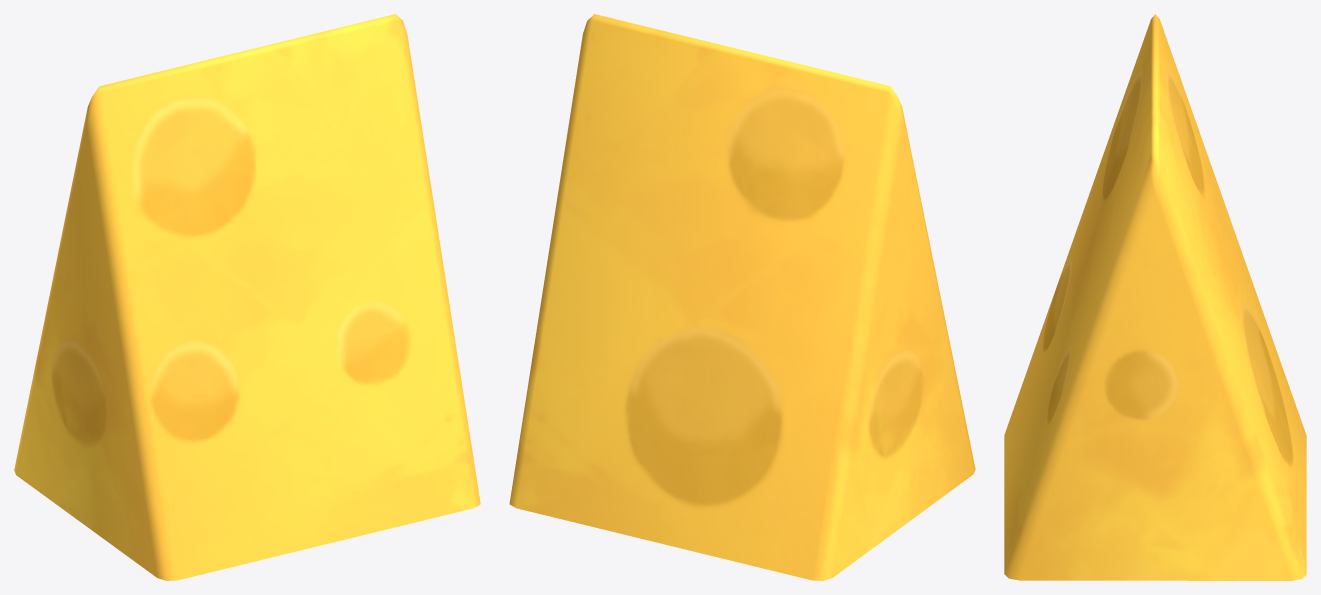
Rendered from cheese_top.glb.
3 renders of one model, left to right at view 1: azimuth 30°, elevation 25°; view 2: azimuth 150°, elevation 25°; view 3: azimuth 270°, elevation 25°, orthographic. The views are drawn at different scales.
Parts seen in each view (by area): view 1: CheeseSlashedTopB; view 2: CheeseSlashedTopB; view 3: CheeseSlashedTopB.
Boxes of the visible parts, x1,y1,x2,y2 form: CheeseSlashedTopB: [14, 14, 480, 580]; CheeseSlashedTopB: [509, 14, 975, 580]; CheeseSlashedTopB: [1004, 14, 1306, 580].
Size of the model in its own units: 0.6261 by 0.8131 by 0.528.
1 material, 1 textured.
